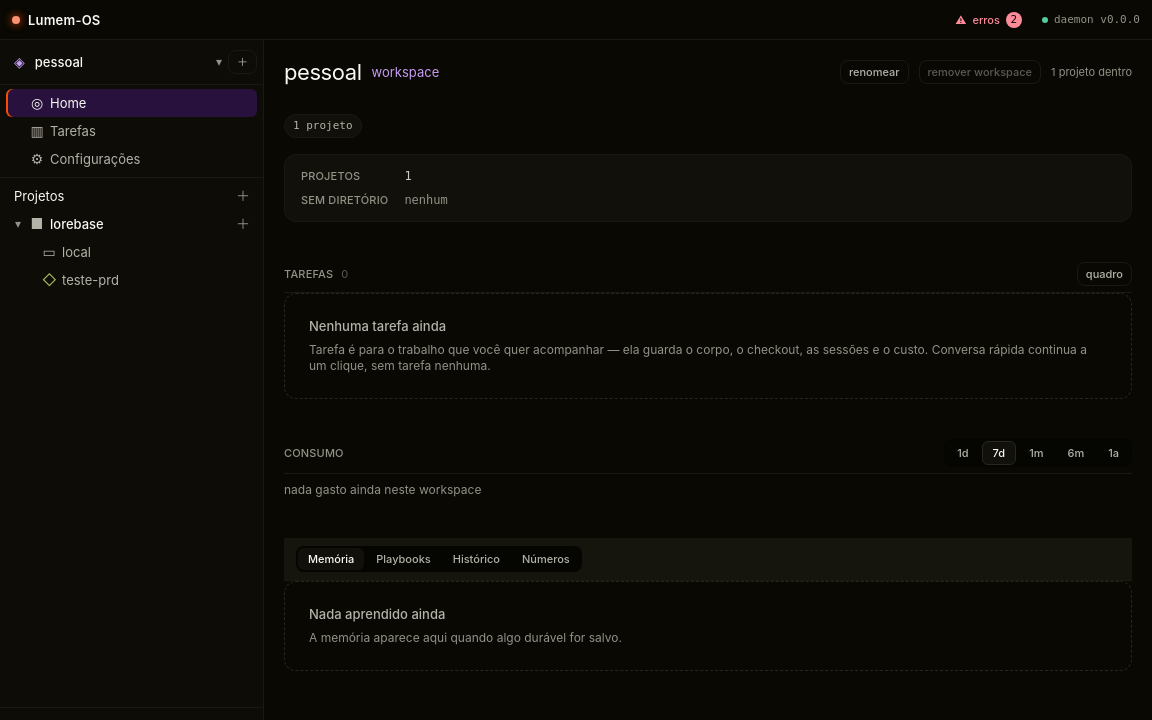
Test: o caminho de volta (W7, T8) › do projeto, o nome do workspace no breadcrumb volta para a tela dele
The image size is (1152, 720).
Click the button "■ lorebase" at (128, 224), box [26,210,231,238]
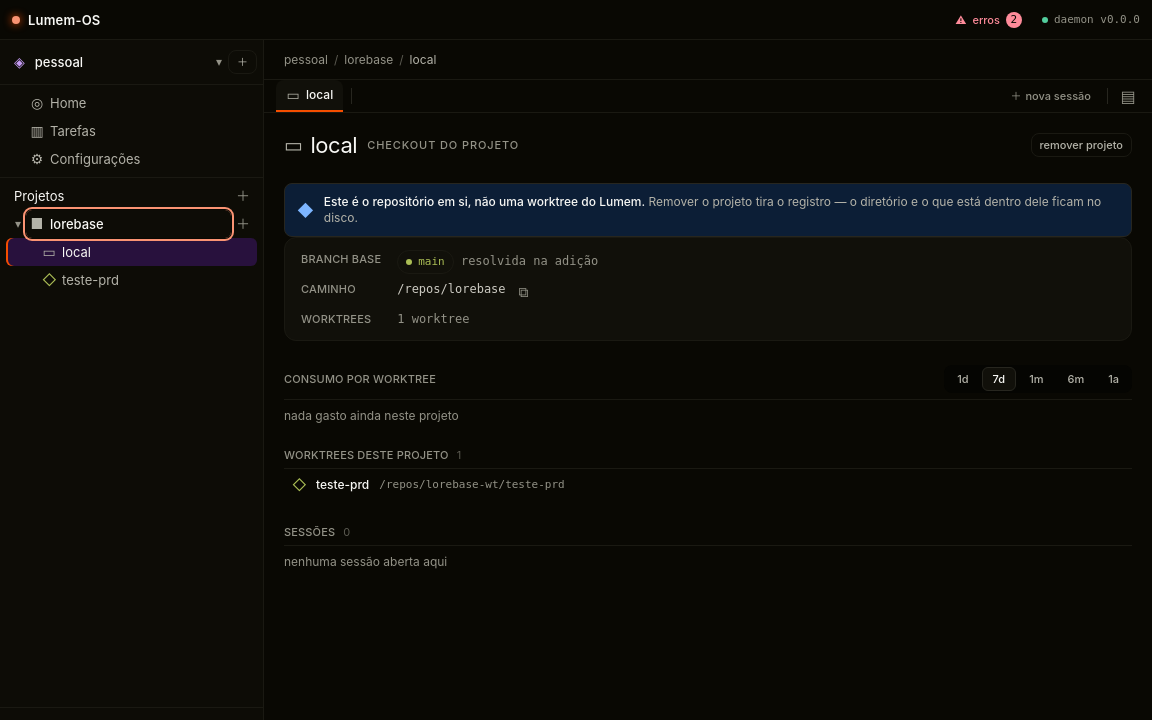
expect the heading "▭ local" is shown: met, box [284,131,357,159]
// O segmento do workspace: era texto morto, e agora é a saída.
Click the button "pessoal" at (306, 60), box [284,48,328,72]
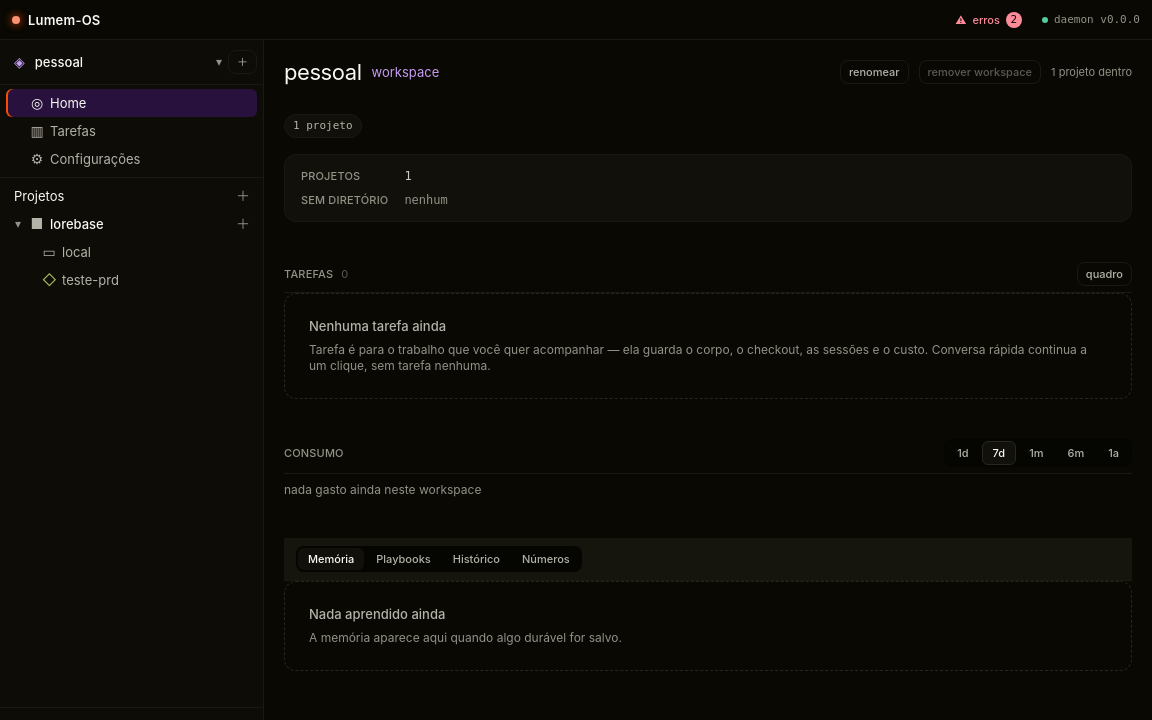
expect the heading "pessoal" is shown: met, box [284,58,362,86]
